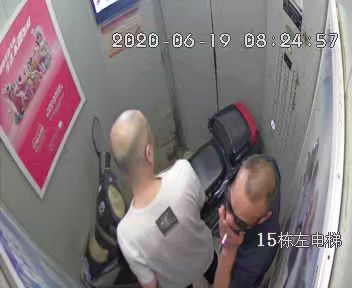Electric-bicycle: (76, 103, 255, 281)
